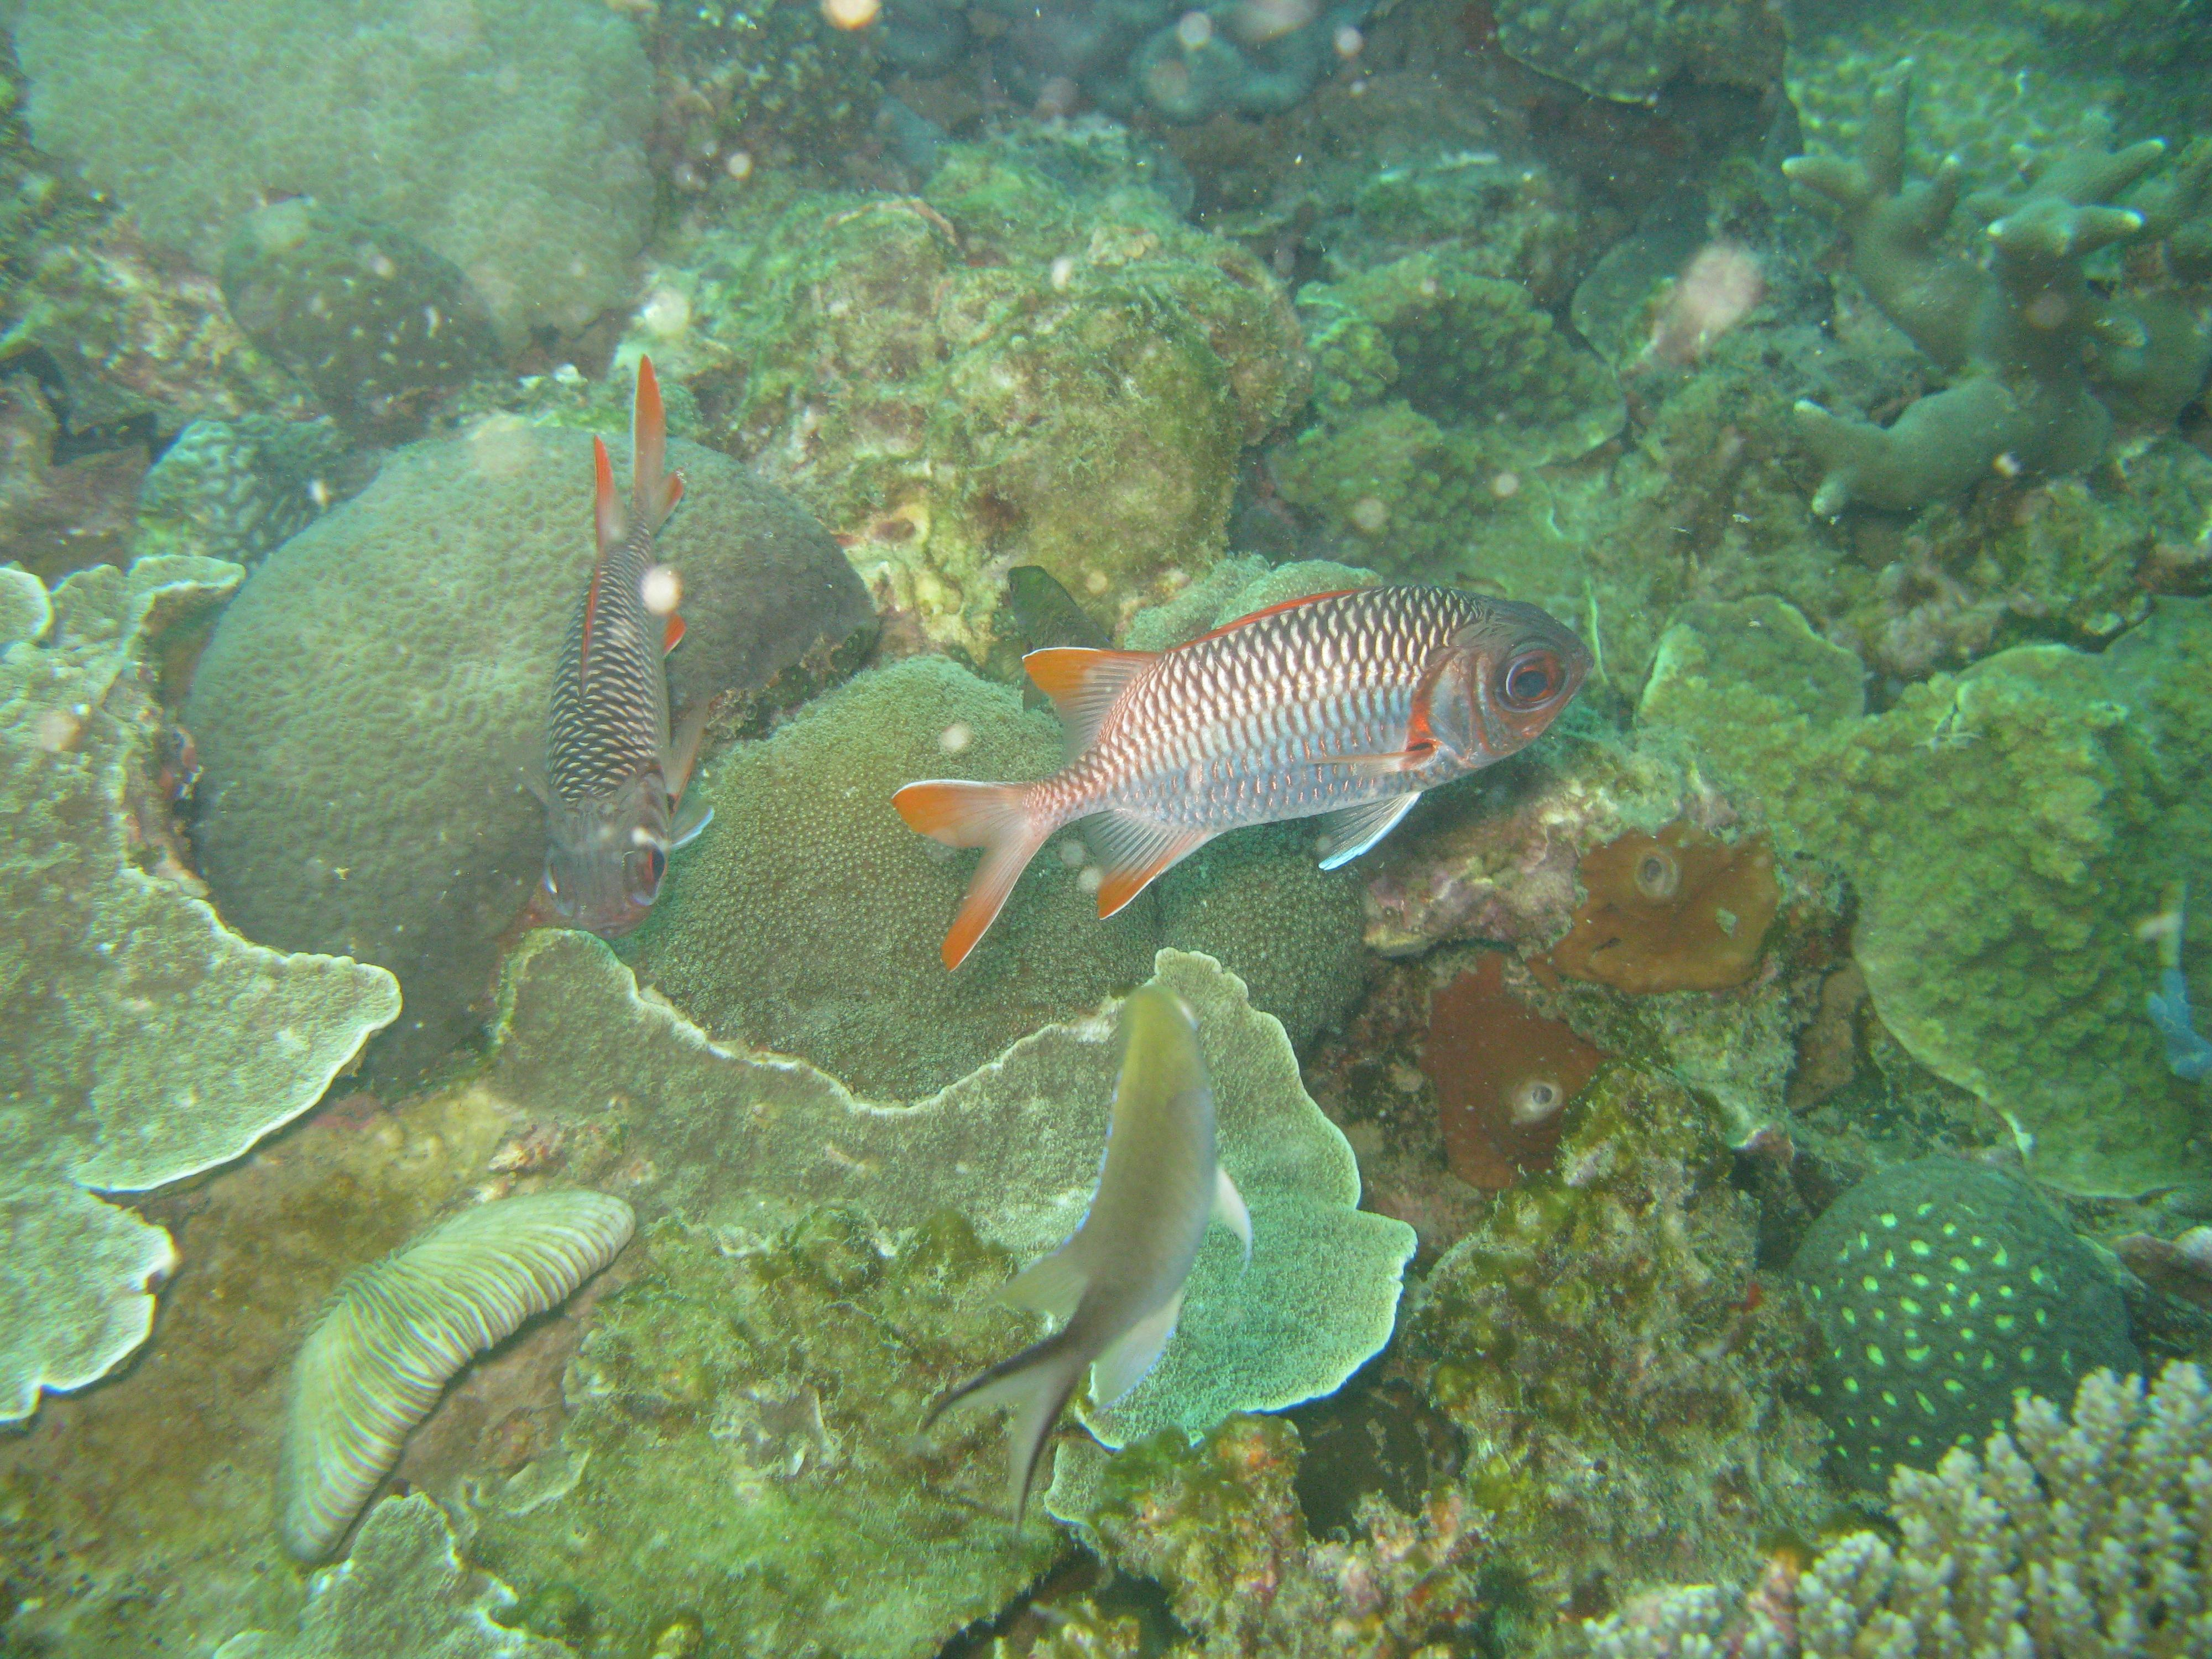Fish: (890, 573, 1608, 990), (502, 338, 742, 951)
